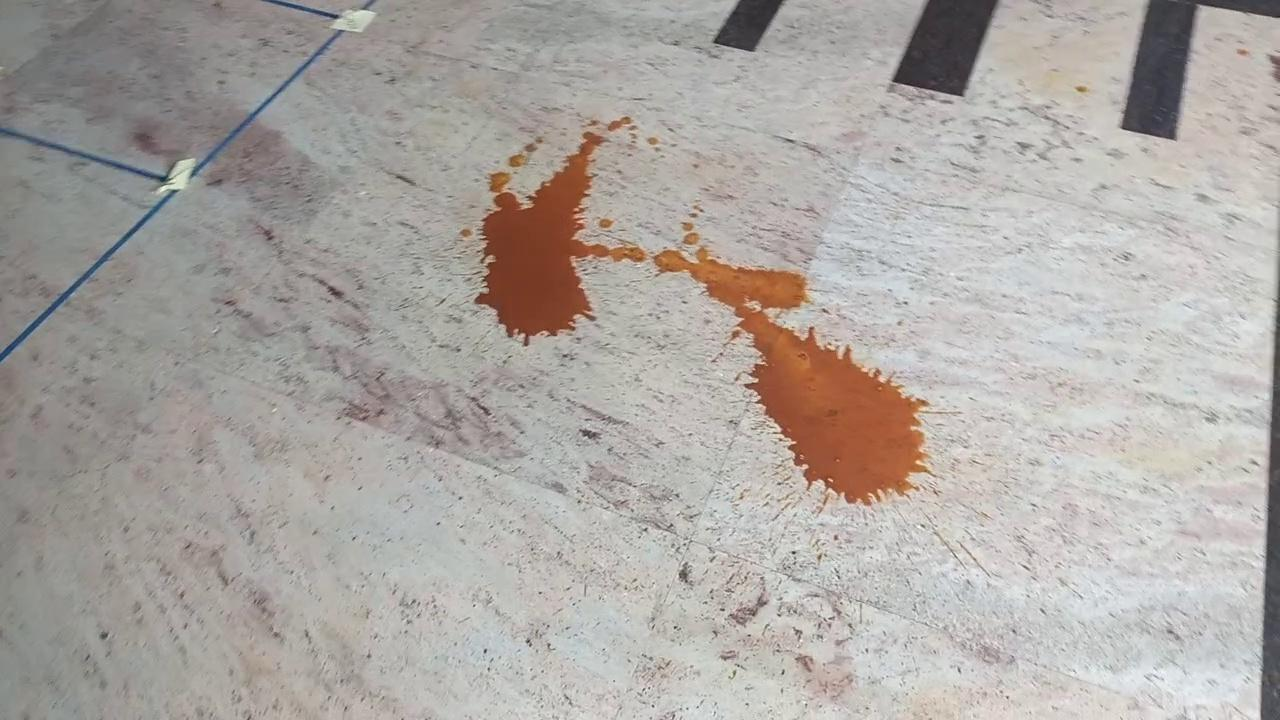dirty_floor: (486, 110, 933, 510)
